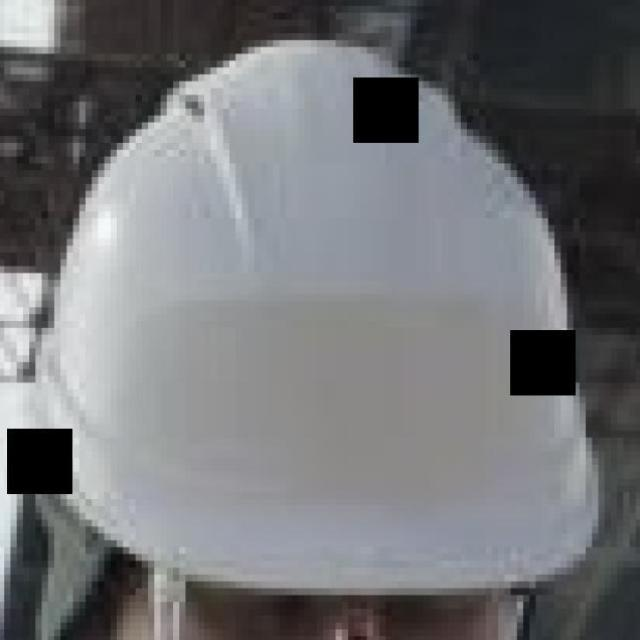helmet: (29, 30, 620, 601)
